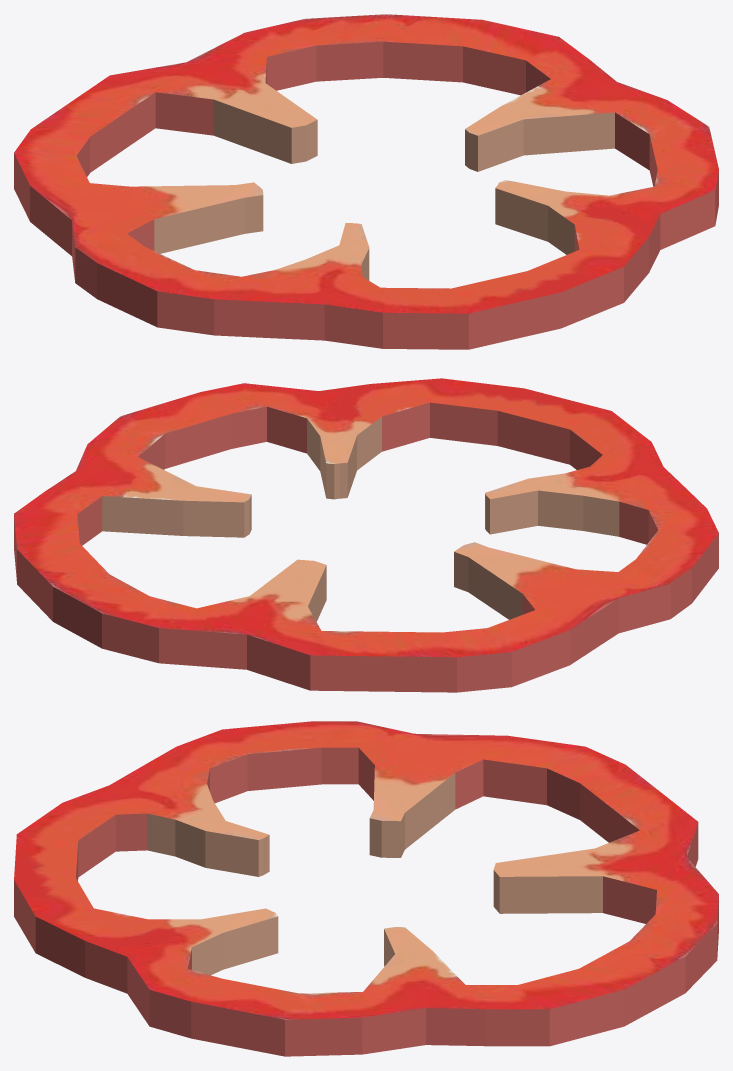
File: paper 1.fbx
3 views of the same model, one above another, from view 1: azimuth 30°, elevation 25°; view 2: azimuth 150°, elevation 25°; view 3: azimuth 270°, elevation 25° (orthographic). The views are drawn at different scales.
Parts seen in each view (by area): view 1: Circle.006; view 2: Circle.006; view 3: Circle.006.
Boxes of the visible parts, bbox=[...] form: Circle.006: bbox=[14, 14, 718, 349]; Circle.006: bbox=[14, 378, 718, 692]; Circle.006: bbox=[14, 721, 718, 1056].
Bounding box in the file's own units: 17.22 × 0.9934 × 17.19.
3 materials, 1 textured.
